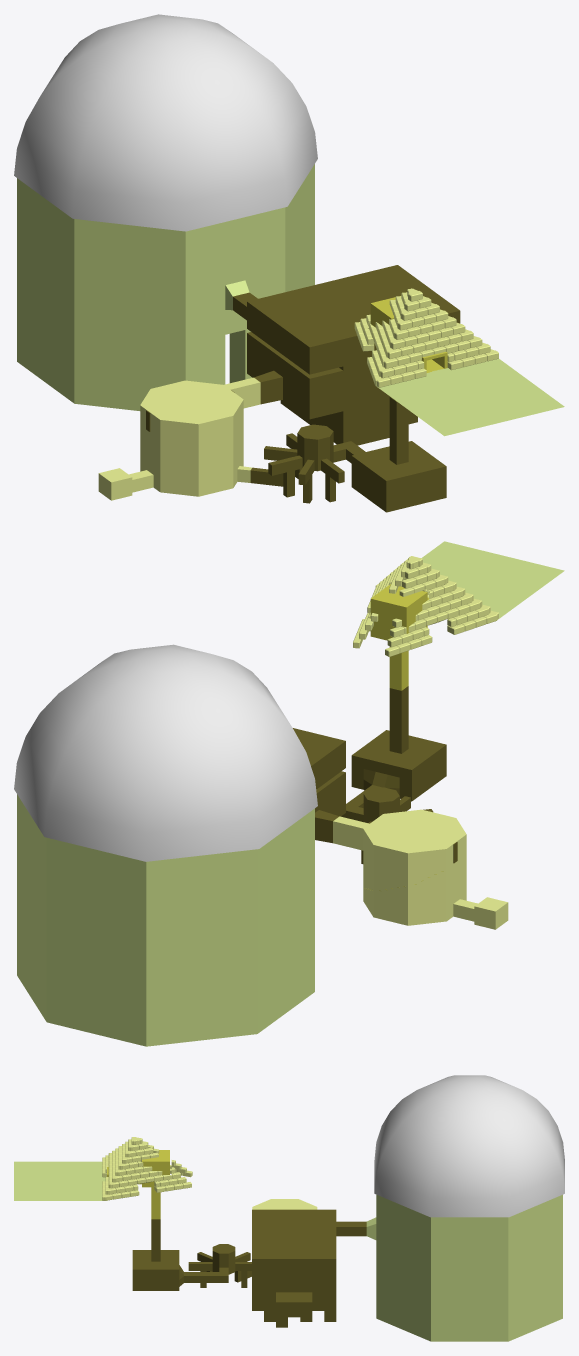
Rendered from MapGameJam.glb.
3 views of the same model, one above another, from view 1: azimuth 30°, elevation 25°; view 2: azimuth 150°, elevation 25°; view 3: azimuth 270°, elevation 25° (orthographic). The views are drawn at different scales.
Visible parts, largest first — view 1: Sphere, BossRoom-col, Level2-col, Level1-col, Plane-col, Pyramid, Tutorial-col, Level0.5-col, Intro-col; view 2: BossRoom-col, Sphere, Level1-col, Pyramid, Tutorial-col, Plane-col, Level2-col, Intro-col, Level0.5-col; view 3: BossRoom-col, Sphere, Level2-col, Plane-col, Pyramid, Tutorial-col, Level0.5-col, Intro-col, Level1-col.
Part boxes in pixels (left/top/right/bottom): Sphere: left=14, top=14, right=317, bottom=231; BossRoom-col: left=17, top=164, right=314, bottom=410; Level2-col: left=233, top=265, right=460, bottom=445; Level1-col: left=98, top=377, right=260, bottom=500; Plane-col: left=376, top=358, right=564, bottom=436; Pyramid: left=354, top=288, right=498, bottom=387; Tutorial-col: left=351, top=397, right=446, bottom=512; Level0.5-col: left=250, top=424, right=365, bottom=503; Intro-col: left=370, top=296, right=447, bottom=401; BossRoom-col: left=17, top=794, right=314, bottom=1046; Sphere: left=14, top=644, right=317, bottom=861; Level1-col: left=333, top=809, right=508, bottom=929; Pyramid: left=353, top=556, right=498, bottom=656; Tutorial-col: left=351, top=686, right=446, bottom=801; Plane-col: left=421, top=541, right=564, bottom=621; Level2-col: left=293, top=728, right=345, bottom=843; Intro-col: left=370, top=584, right=428, bottom=690; Level0.5-col: left=341, top=787, right=433, bottom=863; BossRoom-col: left=366, top=1194, right=562, bottom=1341; Sphere: left=374, top=1075, right=564, bottom=1217; Level2-col: left=252, top=1209, right=366, bottom=1327; Plane-col: left=14, top=1161, right=107, bottom=1200; Pyramid: left=102, top=1137, right=192, bottom=1200; Tutorial-col: left=132, top=1219, right=207, bottom=1290; Level0.5-col: left=188, top=1244, right=251, bottom=1287; Intro-col: left=107, top=1150, right=169, bottom=1219; Level1-col: left=252, top=1199, right=317, bottom=1209.
Size of the model in its own units: 120 by 103 by 235.
